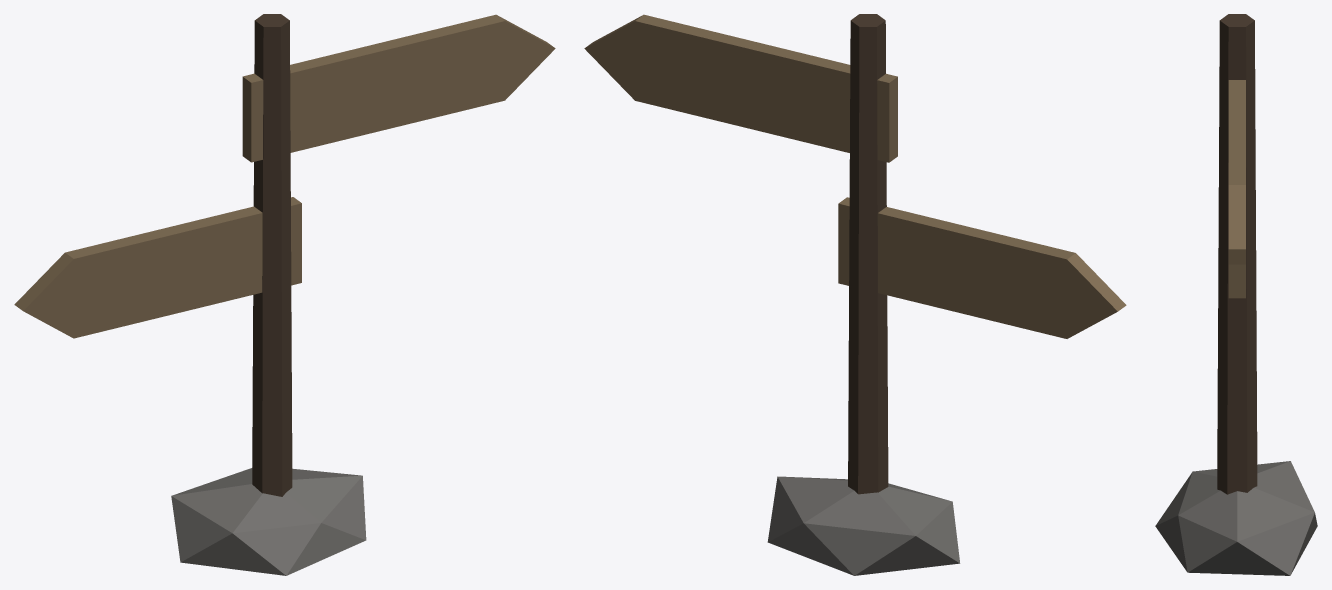
Rendered from signpost.glb.
The picture shows the model from 3 angles, left to right: view 1: azimuth 30°, elevation 25°; view 2: azimuth 150°, elevation 25°; view 3: azimuth 270°, elevation 25°; orthographic projection.
Parts seen in each view (by area): view 1: signpost; view 2: signpost; view 3: signpost.
Part boxes in pixels (x1,y1,x2,y2): signpost: [14, 14, 555, 575]; signpost: [584, 14, 1126, 575]; signpost: [1155, 14, 1317, 575].
Size of the model in its own units: 2.1 by 2 by 0.5548.
